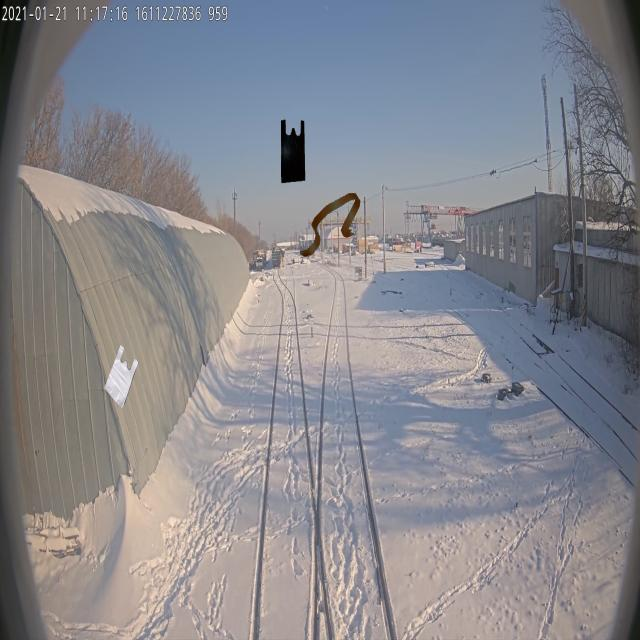floating object: (300, 192, 361, 256)
plastic bag: (104, 345, 139, 409), (280, 119, 306, 183)
